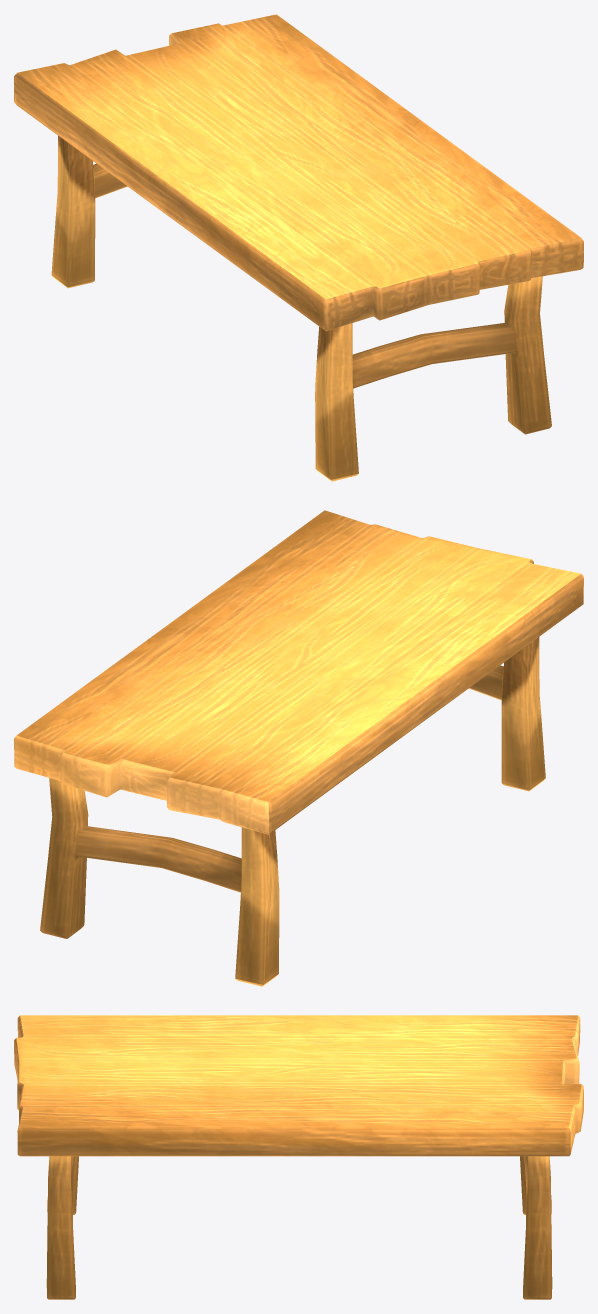
File: SM_Stylized_Table_A.fbx
3 renders of one model, top to bottom at view 1: azimuth 30°, elevation 25°; view 2: azimuth 150°, elevation 25°; view 3: azimuth 270°, elevation 25°, orthographic. The views are drawn at different scales.
Parts seen in each view (by area): view 1: SM_Stylized_Table_A_LOD0; view 2: SM_Stylized_Table_A_LOD0; view 3: SM_Stylized_Table_A_LOD0.
Part boxes in pixels (<box>): SM_Stylized_Table_A_LOD0: <box>14,14,583,481</box>; SM_Stylized_Table_A_LOD0: <box>14,510,583,986</box>; SM_Stylized_Table_A_LOD0: <box>14,1015,583,1299</box>.
Bounding box in the file's own units: 127 × 268 × 93.22.
